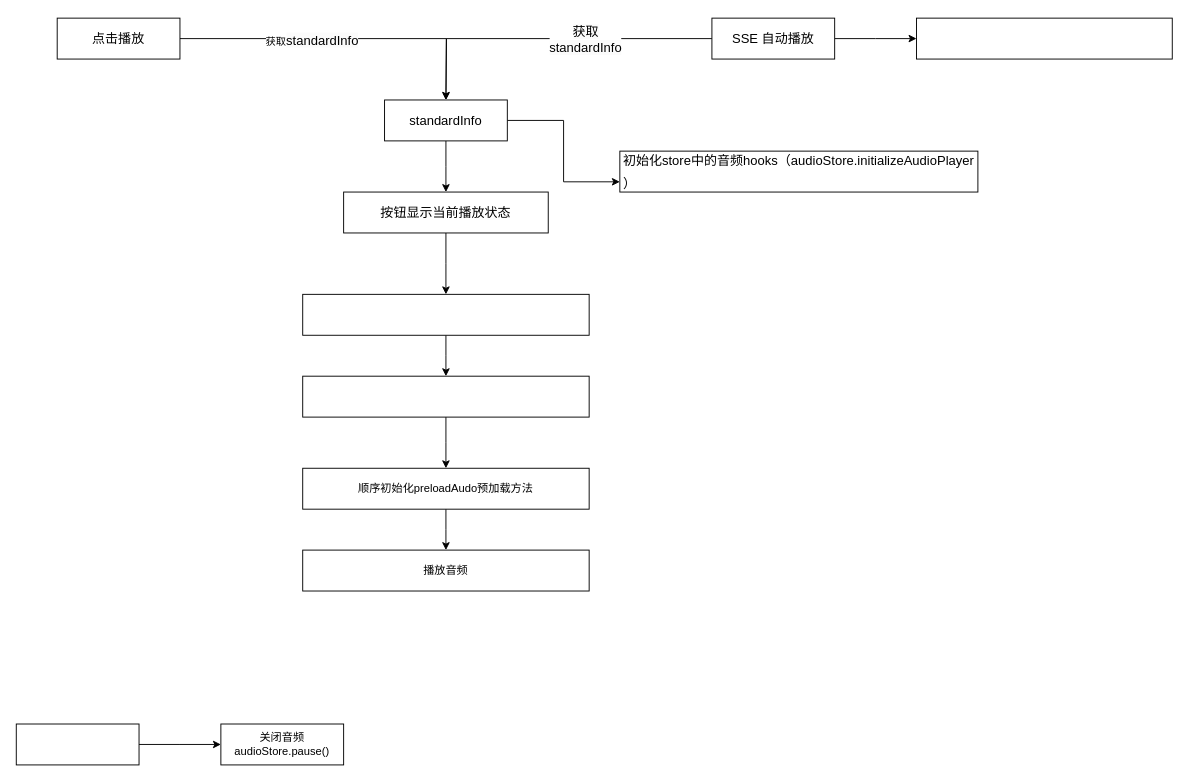
This 1189x781 diagram has some shape labels left out. The shapes that lost their labels are listed below. From the top down, each one's centre as x and y in pixels, then its label:
At [1044,38]: "watch检测list数据，获取数据，继续调用preloadAudio".
At [445,314]: "拿取 standardInfo文本列表，调用ws与雪飞老师通信，返回二进制流".
At [445,396]: ".pcm二进制数据转为.wav文件".
At [77,744]: "暂停、打断音频".
